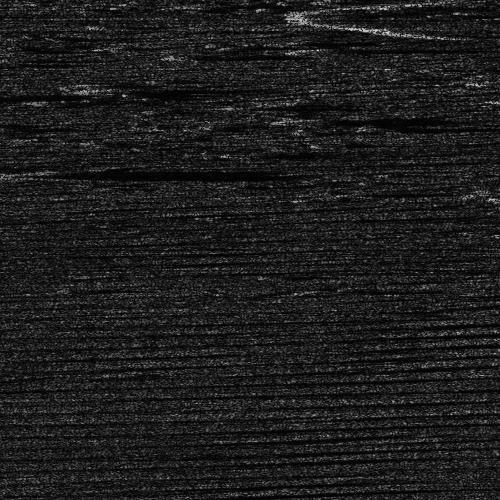object: (314, 0, 500, 34), (178, 110, 427, 127), (55, 84, 138, 95), (206, 99, 269, 112), (277, 44, 360, 53), (151, 53, 182, 58), (16, 171, 47, 176)
shadow: (303, 110, 470, 127), (97, 84, 250, 95), (238, 99, 360, 112), (0, 92, 173, 101), (32, 171, 295, 176), (318, 44, 446, 53), (167, 53, 285, 58)
